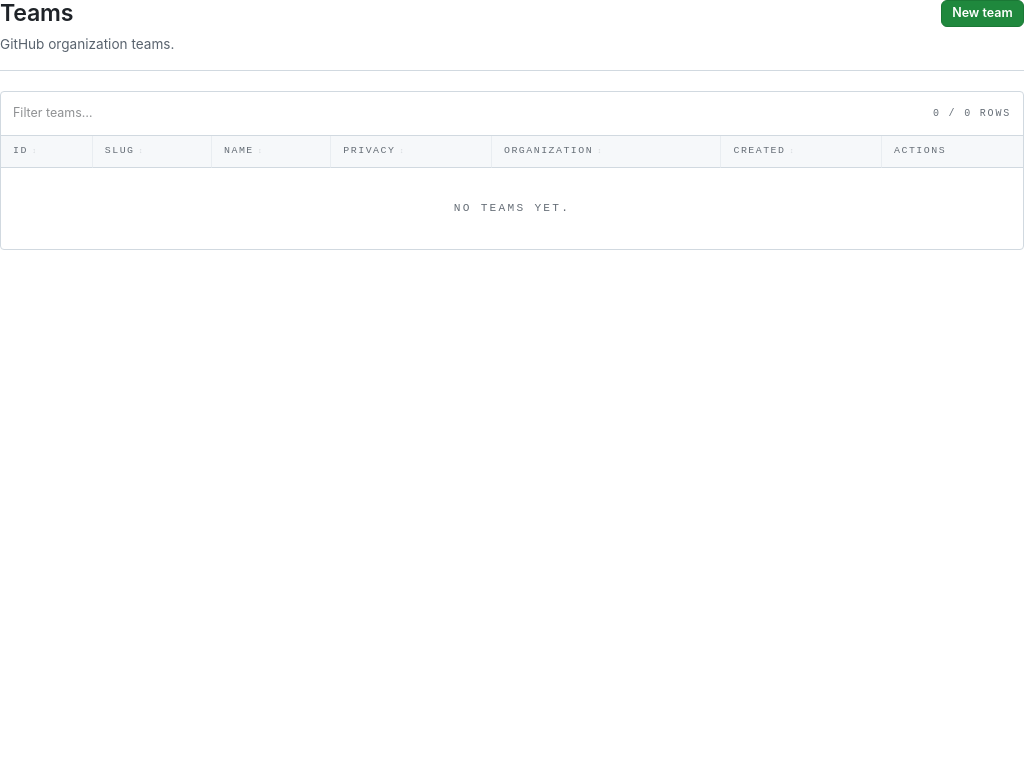
Test: TeamsPage › loads teams and creates one through the public organization API
Expected: the text "No teams yet." is shown, [1,168,1023,249]
Click the button "New team": (982, 14) [941,0,1023,27]
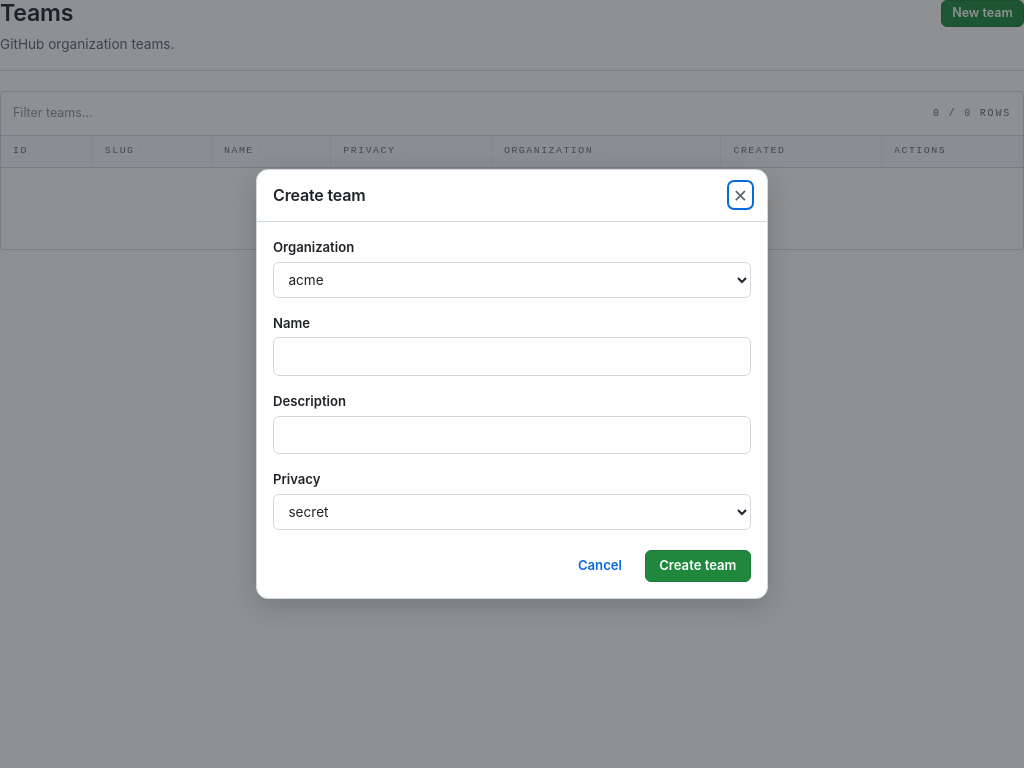
Expected: the button "Create team" is disabled, [645,550,751,582]
In the field labelled "Name": (512, 357) [273,337,751,376], type "Platform"
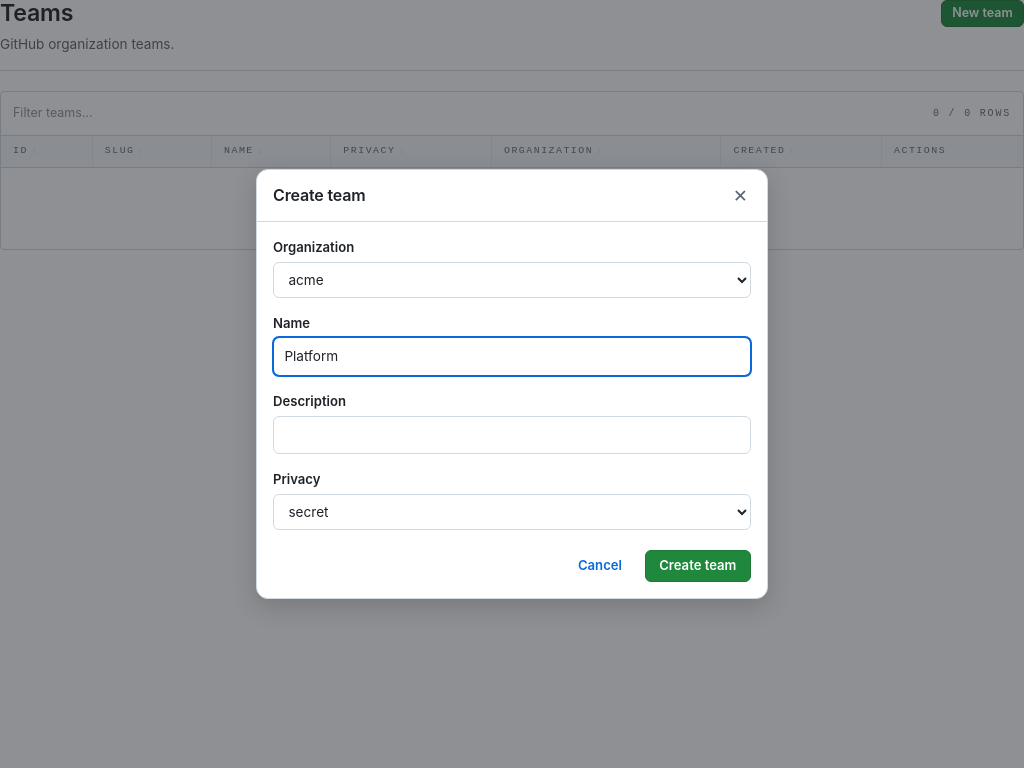
In the field labelled "Description": (512, 435) [273,416,751,454], type "Build systems"
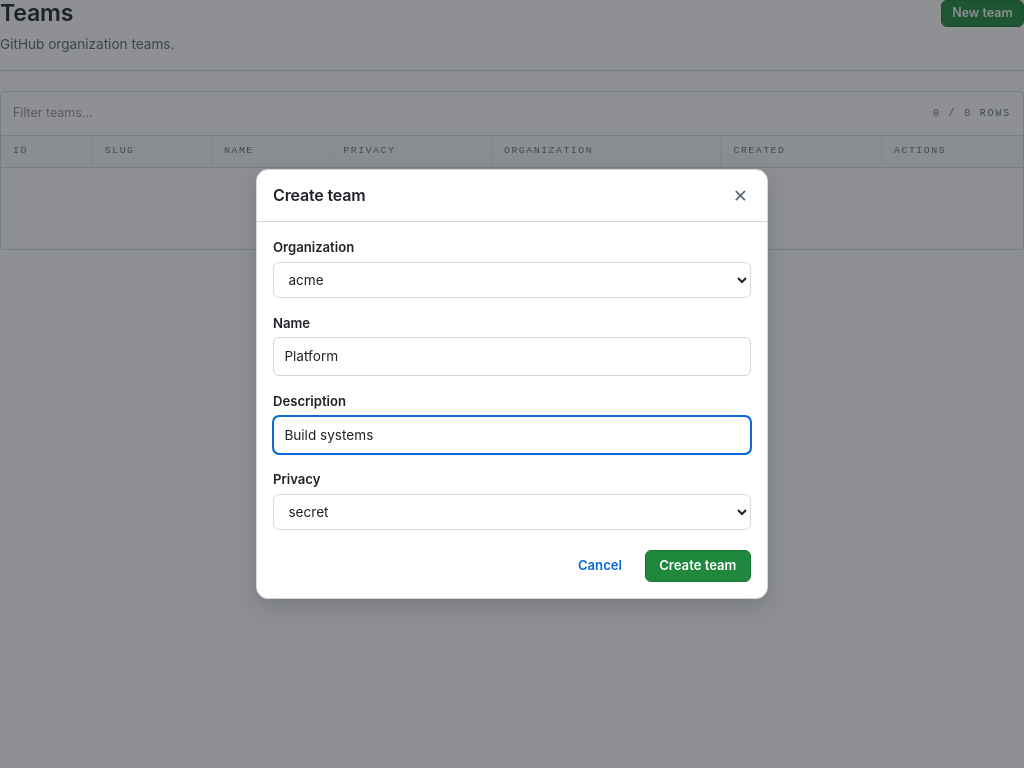
Select "closed" in the dropdown labelled "Privacy": (512, 512) [273,494,751,530]
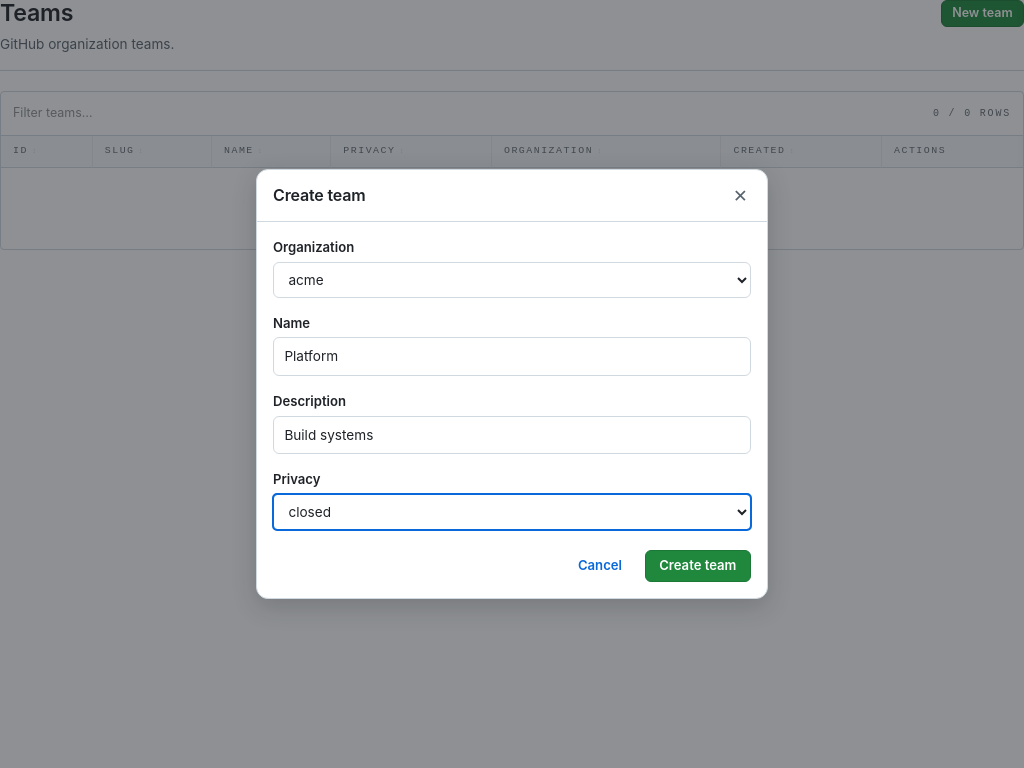
Expected: the button "Create team" is enabled
Click the button "Create team": (698, 566) [645,550,751,582]
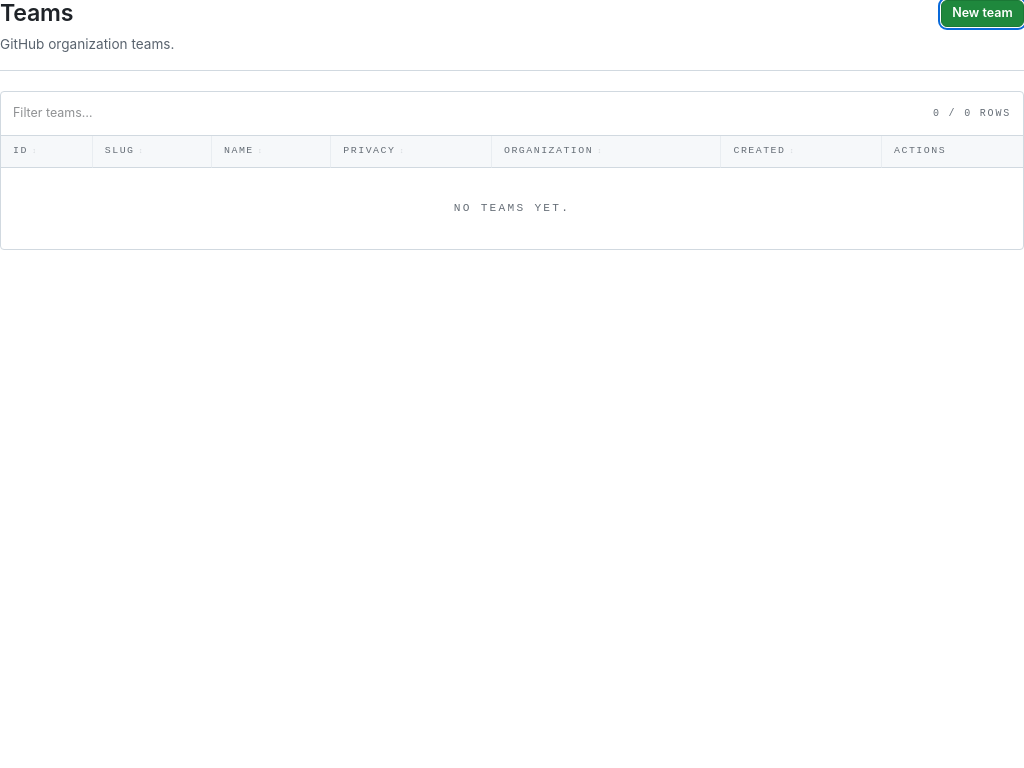
Expected: the heading "Create team" is gone
